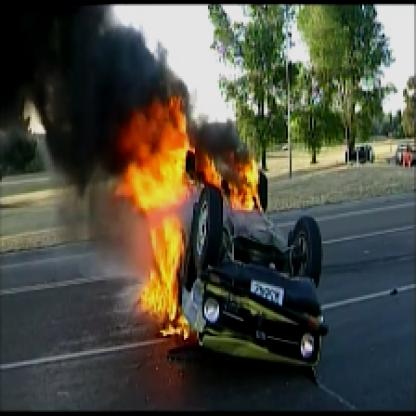Fire: (72, 82, 268, 338)
